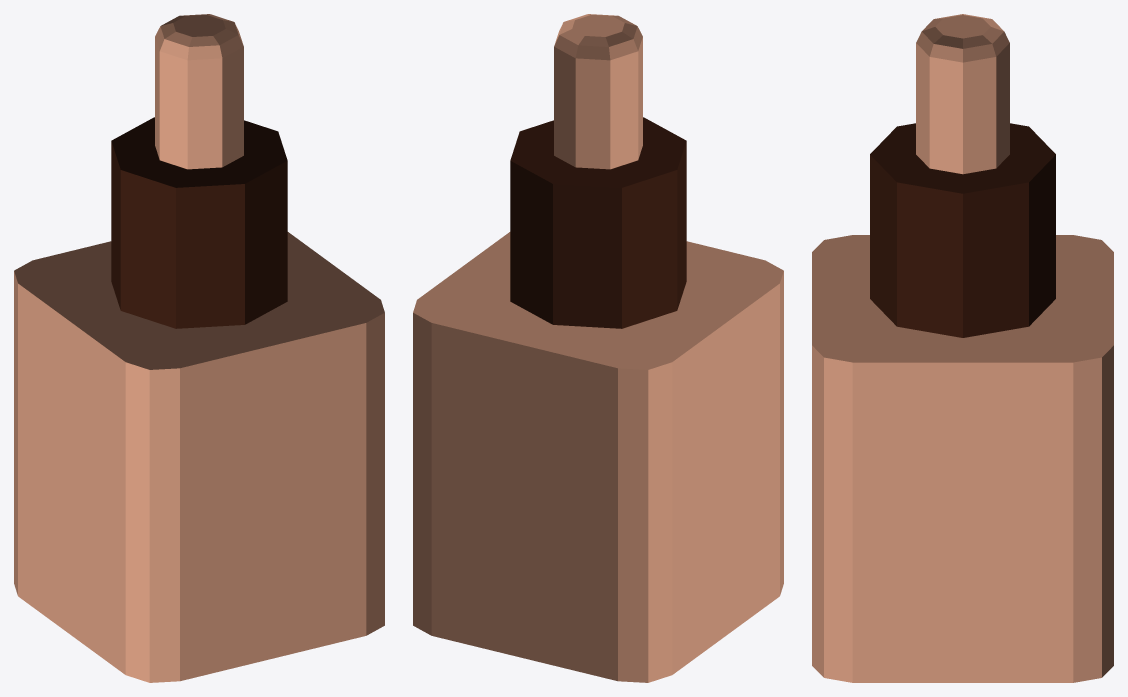
Rendered from Tiny Bottle.fbx.
3 renders of one model, left to right at view 1: azimuth 30°, elevation 25°; view 2: azimuth 150°, elevation 25°; view 3: azimuth 270°, elevation 25°, orthographic. The views are drawn at different scales.
Parts seen in each view (by area): view 1: Node 0; view 2: Node 0; view 3: Node 0.
Part boxes in pixels (x1,y1,x2,y2): Node 0: (14, 14, 384, 682); Node 0: (413, 14, 783, 682); Node 0: (812, 14, 1113, 682).
Bounding box in the file's own units: 0.054 × 0.117 × 0.054.
